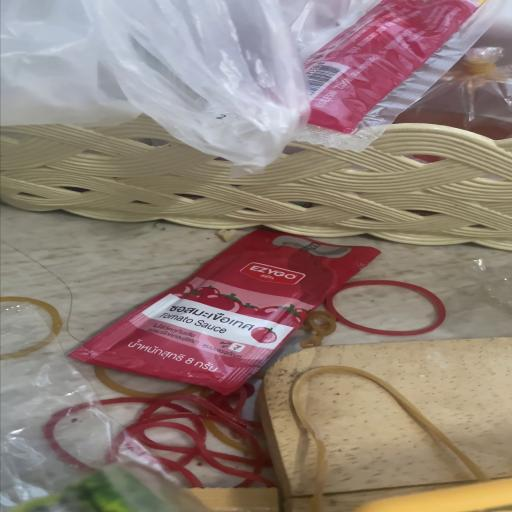brand_golden_good: (260, 337, 512, 509)
